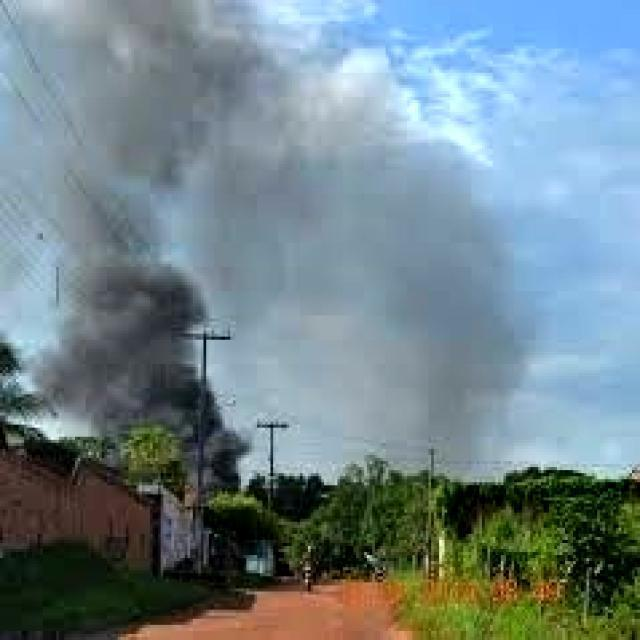Smoke: (266, 82, 572, 450), (0, 0, 238, 471)
